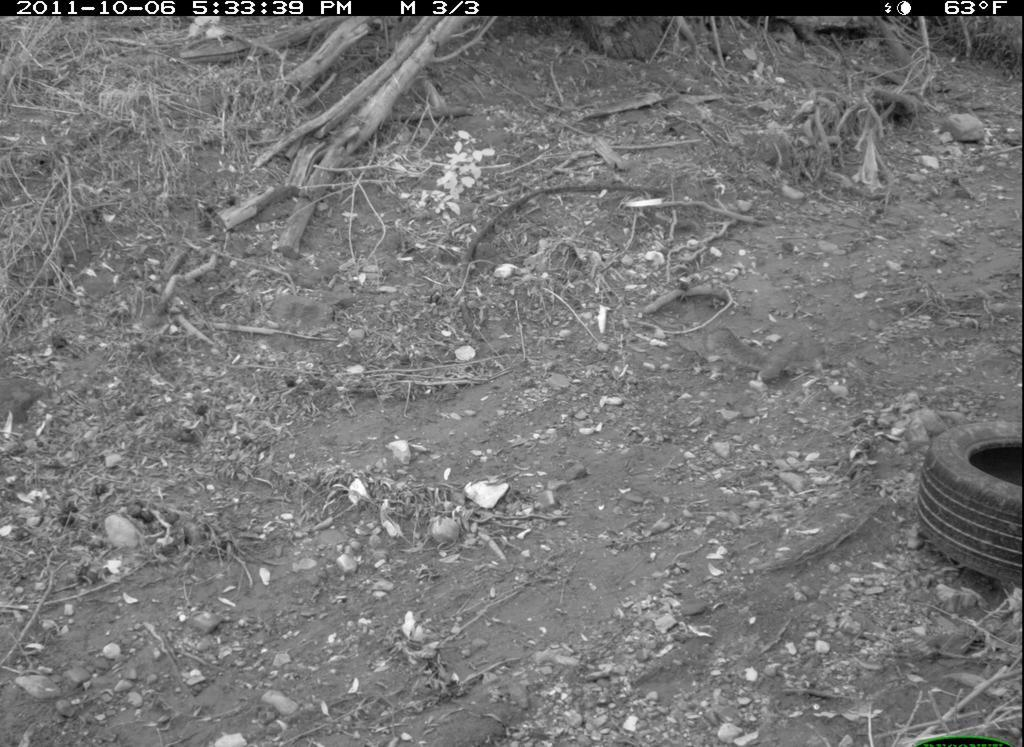squirrel: (692, 319, 824, 386)
